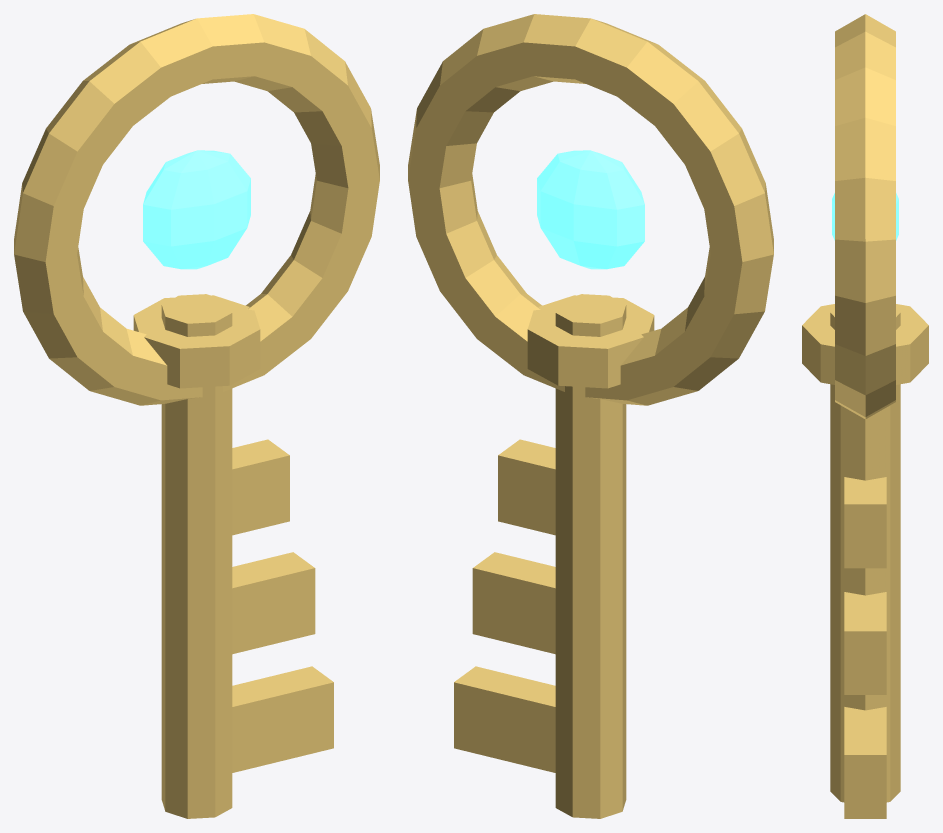
File: item_rune_key.glb
3 views of the same model, side by side, from view 1: azimuth 30°, elevation 25°; view 2: azimuth 150°, elevation 25°; view 3: azimuth 270°, elevation 25° (orthographic). The views are drawn at different scales.
Parts seen in each view (by area): view 1: item_rune_key_gold, item_rune_key_glow; view 2: item_rune_key_gold, item_rune_key_glow; view 3: item_rune_key_gold, item_rune_key_glow.
Boxes of the visible parts, x1=… form: item_rune_key_gold: x1=14, y1=14, x2=379, y2=818; item_rune_key_glow: x1=143, y1=150, x2=250, y2=269; item_rune_key_gold: x1=408, y1=14, x2=773, y2=818; item_rune_key_glow: x1=537, y1=150, x2=644, y2=269; item_rune_key_gold: x1=802, y1=14, x2=928, y2=818; item_rune_key_glow: x1=832, y1=193, x2=898, y2=240.
Size of the model in its own units: 0.58 by 1.19 by 0.18.
